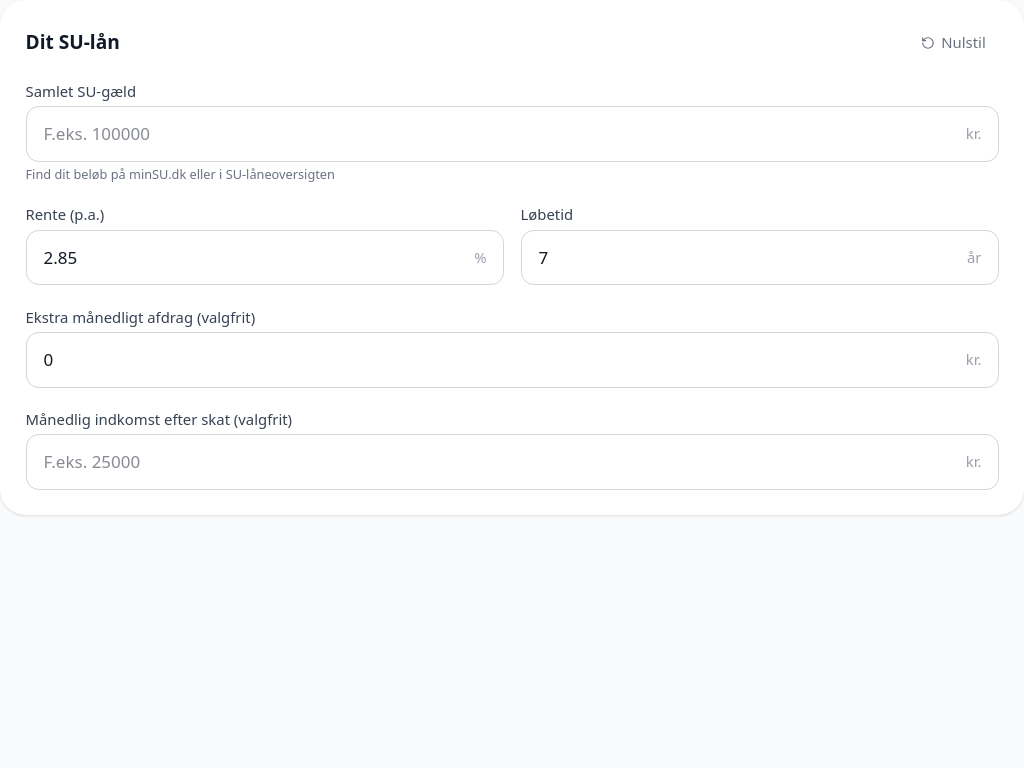
StudielaanBeregner › viser ikke et resultat, når rentefeltet er tomt
Type "100000" into the number field labelled "Samlet SU-gæld" at (512, 134), box [26,106,998,162]
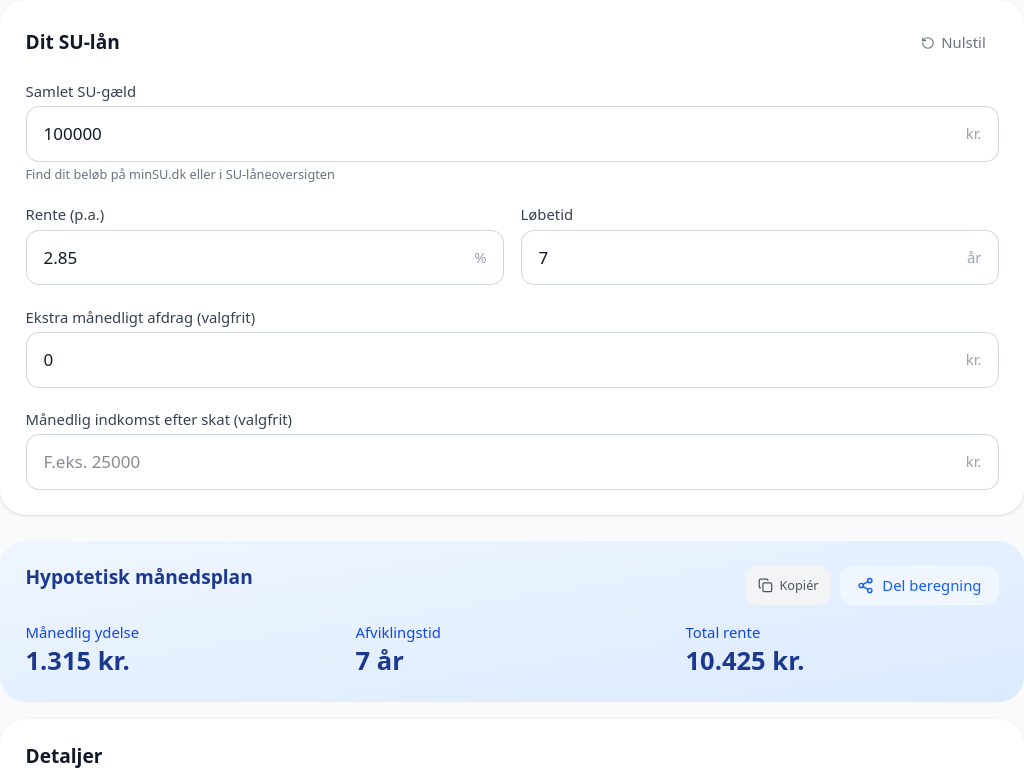
Expected: the heading "Hypotetisk månedsplan" is shown, [26,566,253,590]
Clear the number field labelled "Rente (p.a.)" at (264, 258), box [26,230,504,285]
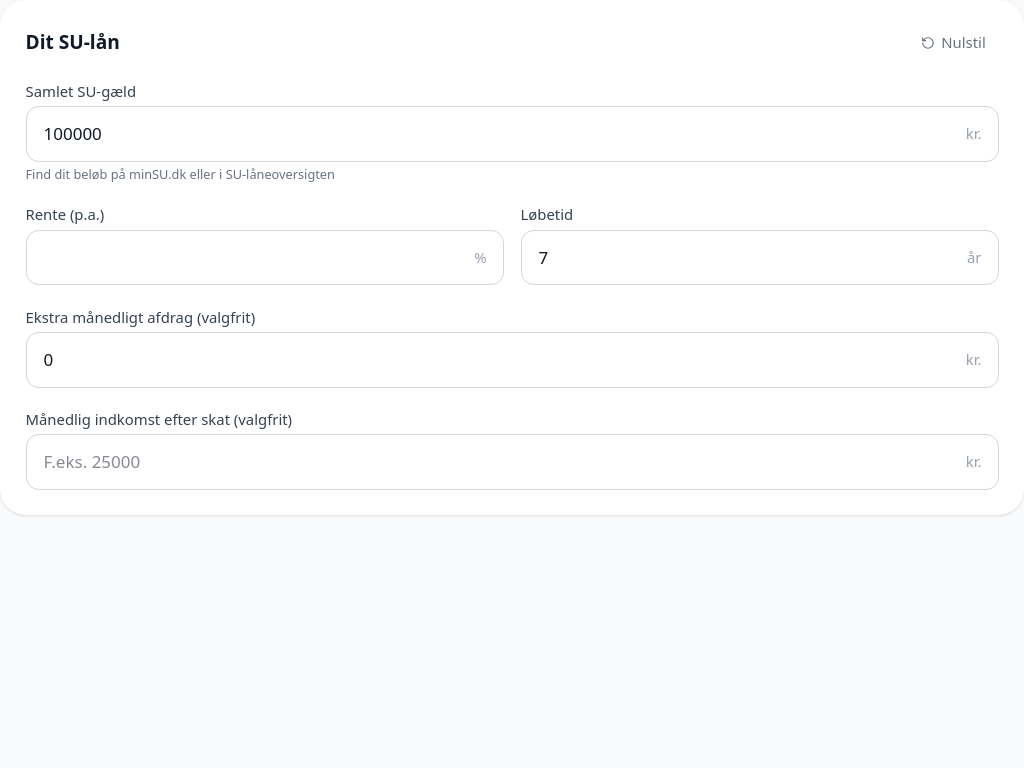
Expected: the heading "Hypotetisk månedsplan" is gone
